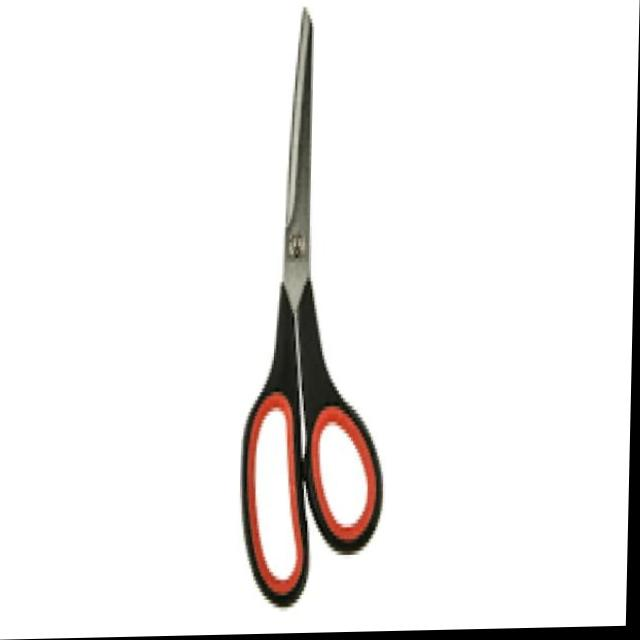scissor: (234, 6, 394, 612)
